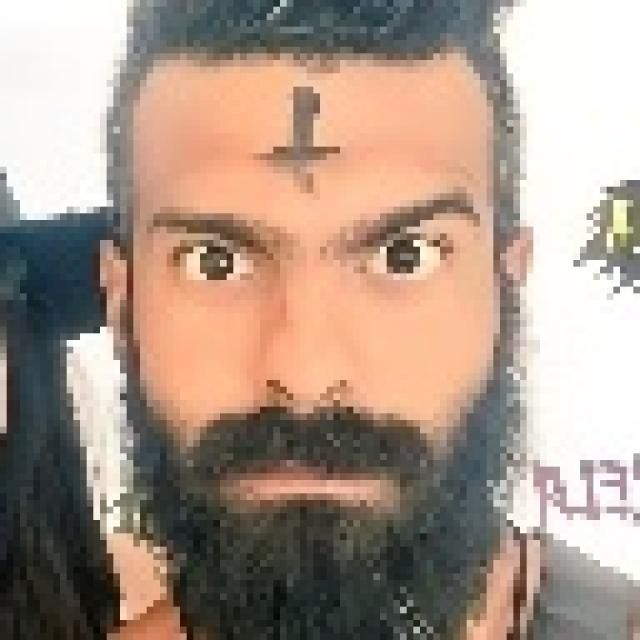angry: (116, 37, 518, 594)
